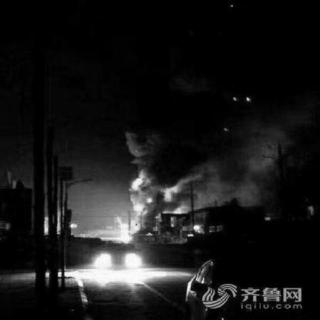Smoke: (130, 131, 168, 168)
